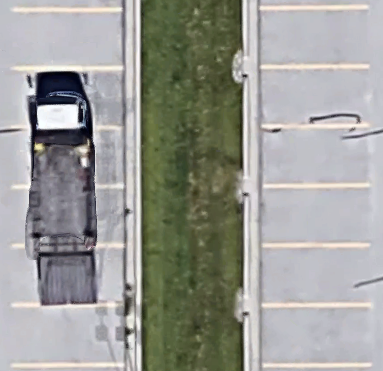Occupied: (9, 68, 129, 128), (9, 187, 130, 246), (9, 128, 130, 186), (9, 246, 130, 304)
Vacant: (9, 305, 130, 365), (10, 9, 128, 68), (257, 245, 371, 306), (255, 7, 370, 67), (254, 67, 370, 126), (255, 126, 369, 186), (256, 185, 370, 245), (258, 306, 372, 366)
